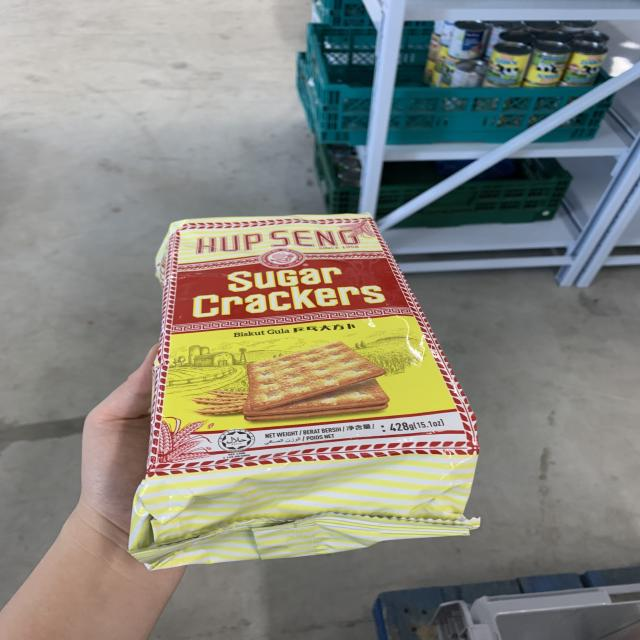object_name: (142, 222, 479, 545)
